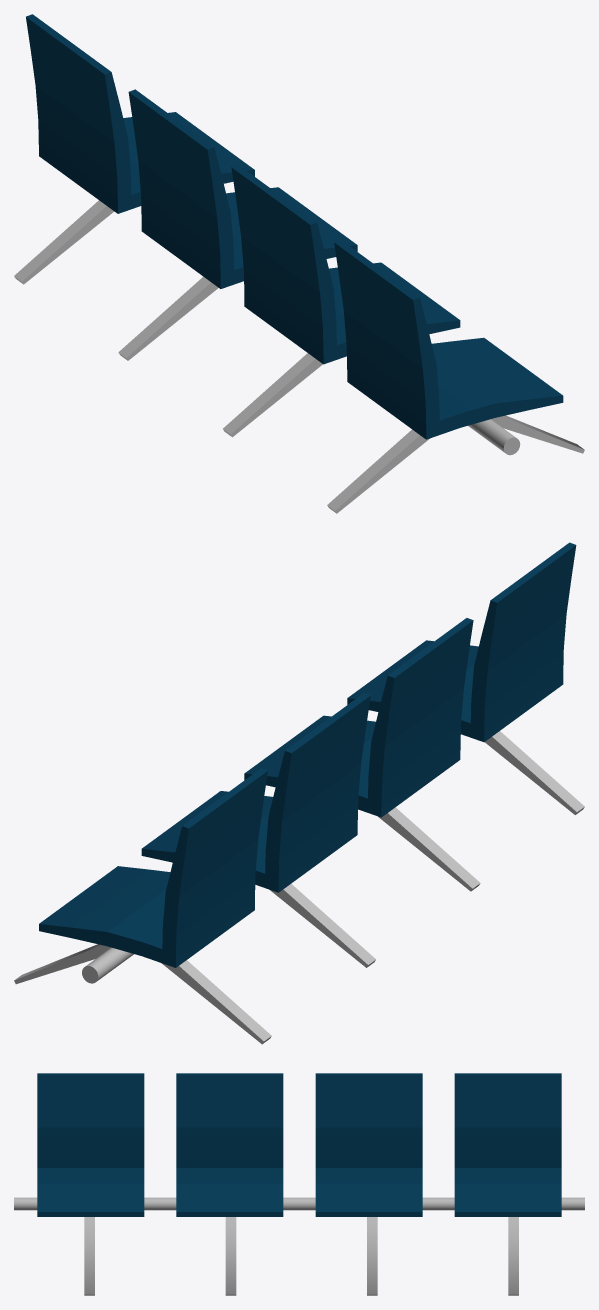
The model's file is Bench.fbx.
3 views of the same model, one above another, from view 1: azimuth 30°, elevation 25°; view 2: azimuth 150°, elevation 25°; view 3: azimuth 270°, elevation 25° (orthographic). The views are drawn at different scales.
Parts seen in each view (by area): view 1: Cube.003, Cube, Cube.002, Cylinder; view 2: Cube.003, Cube, Cube.002, Cylinder; view 3: Cube.003, Cube, Cube.002, Cylinder.
Boxes of the visible parts, x1,y1,x2,y2 form: Cube.003: [26, 14, 439, 439]; Cube: [39, 112, 563, 439]; Cube.002: [14, 200, 584, 513]; Cylinder: [468, 419, 520, 455]; Cube.003: [162, 542, 576, 967]; Cube: [39, 640, 563, 967]; Cube.002: [14, 731, 584, 1044]; Cylinder: [82, 947, 133, 983]; Cube.003: [37, 1073, 561, 1167]; Cube: [37, 1168, 561, 1216]; Cube.002: [84, 1217, 518, 1295]; Cylinder: [14, 1197, 584, 1210].
Bounding box in the file's own units: 365 × 321 × 1067.
